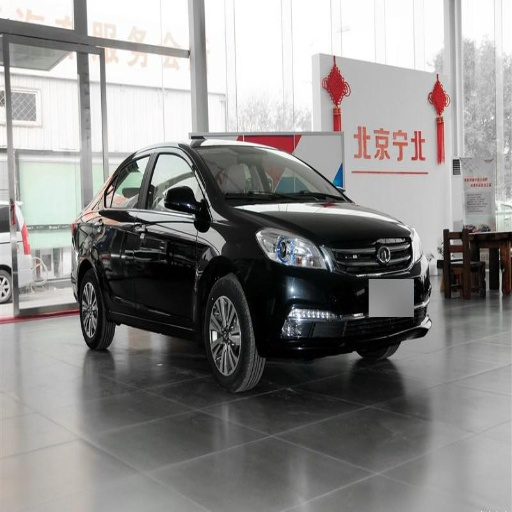front_bumper: (249, 231, 430, 359)
front_right_door: (130, 148, 202, 320)
front_right_light: (257, 227, 326, 269)
